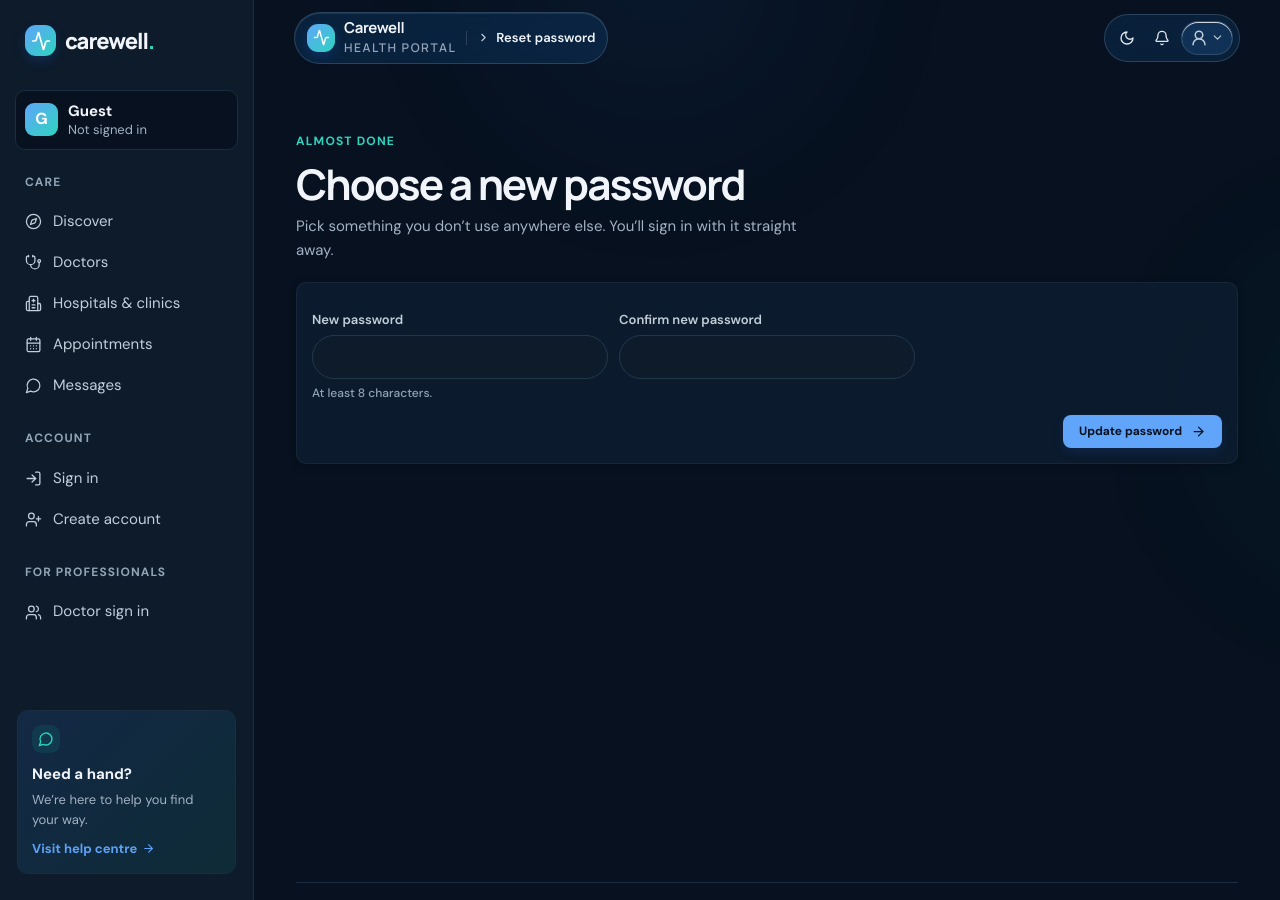
Scenario: reset password screen › explains an expired link and offers a new one
The image size is (1280, 900).
Type "a-brand-new-one" into the password field labelled "New password At least 8 characters." at (460, 357), box [312,335,608,379]
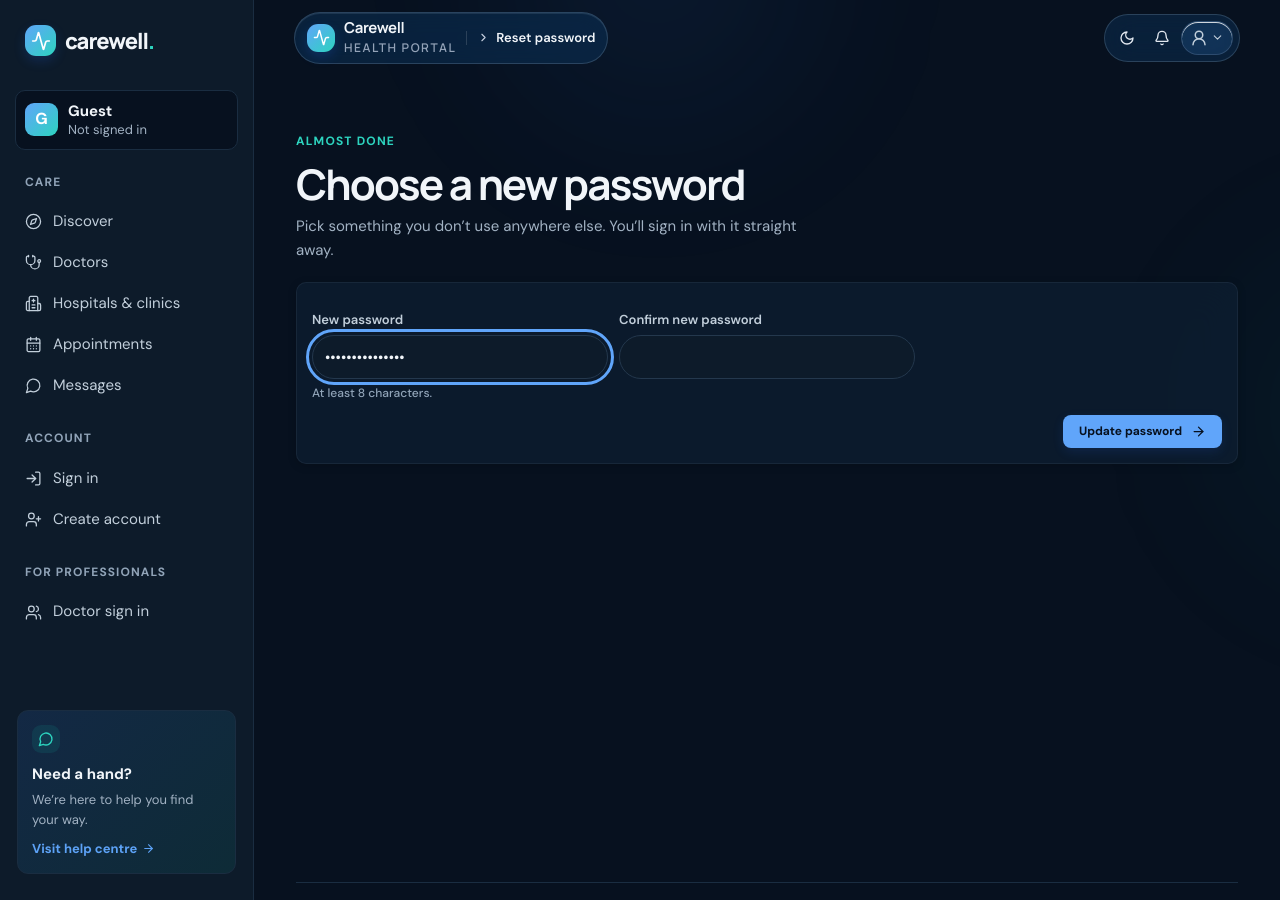
Type "a-brand-new-one" into the password field labelled "Confirm new password" at (767, 357), box [619,335,915,379]
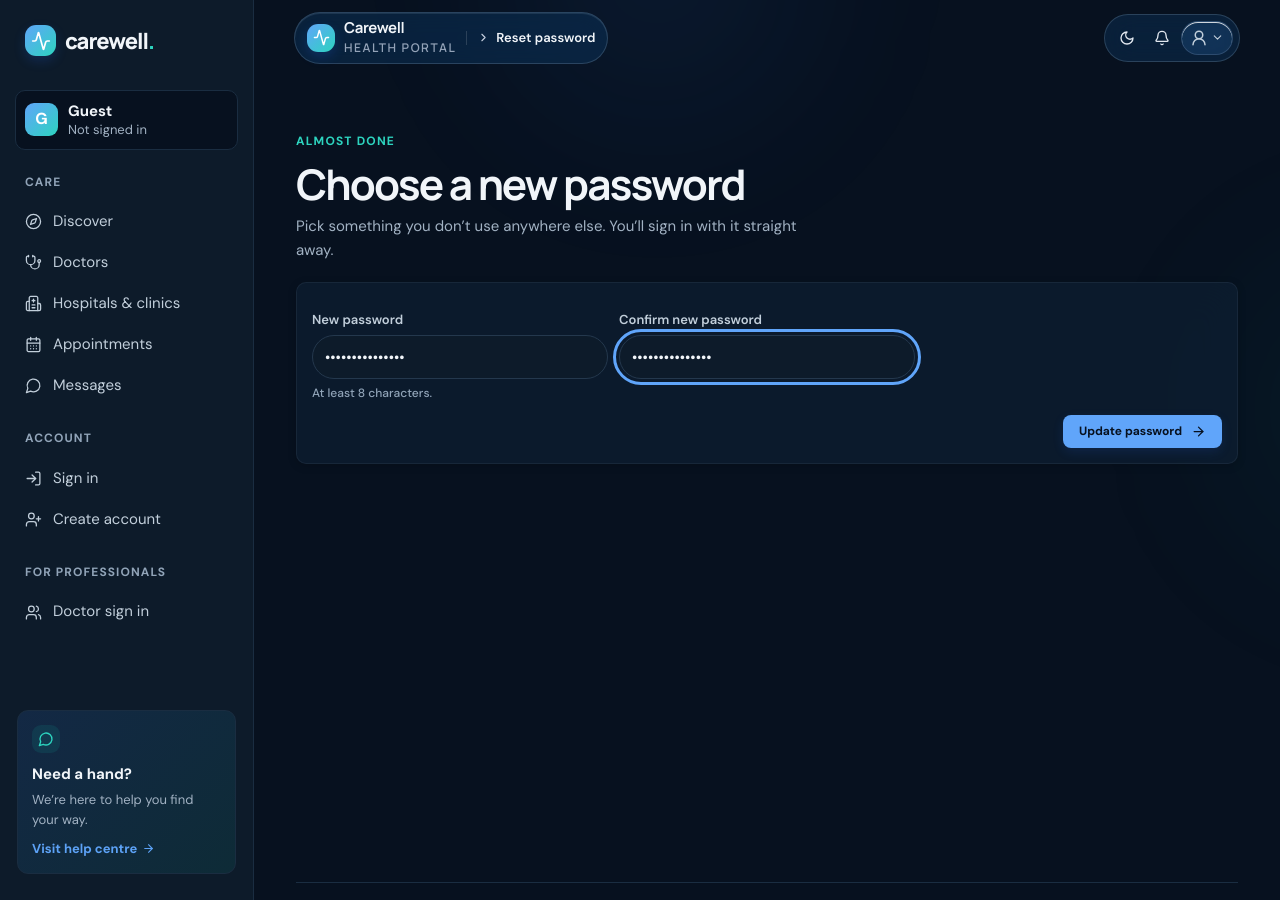
Click the button "Update password" at (1142, 431), box [1063,415,1222,448]
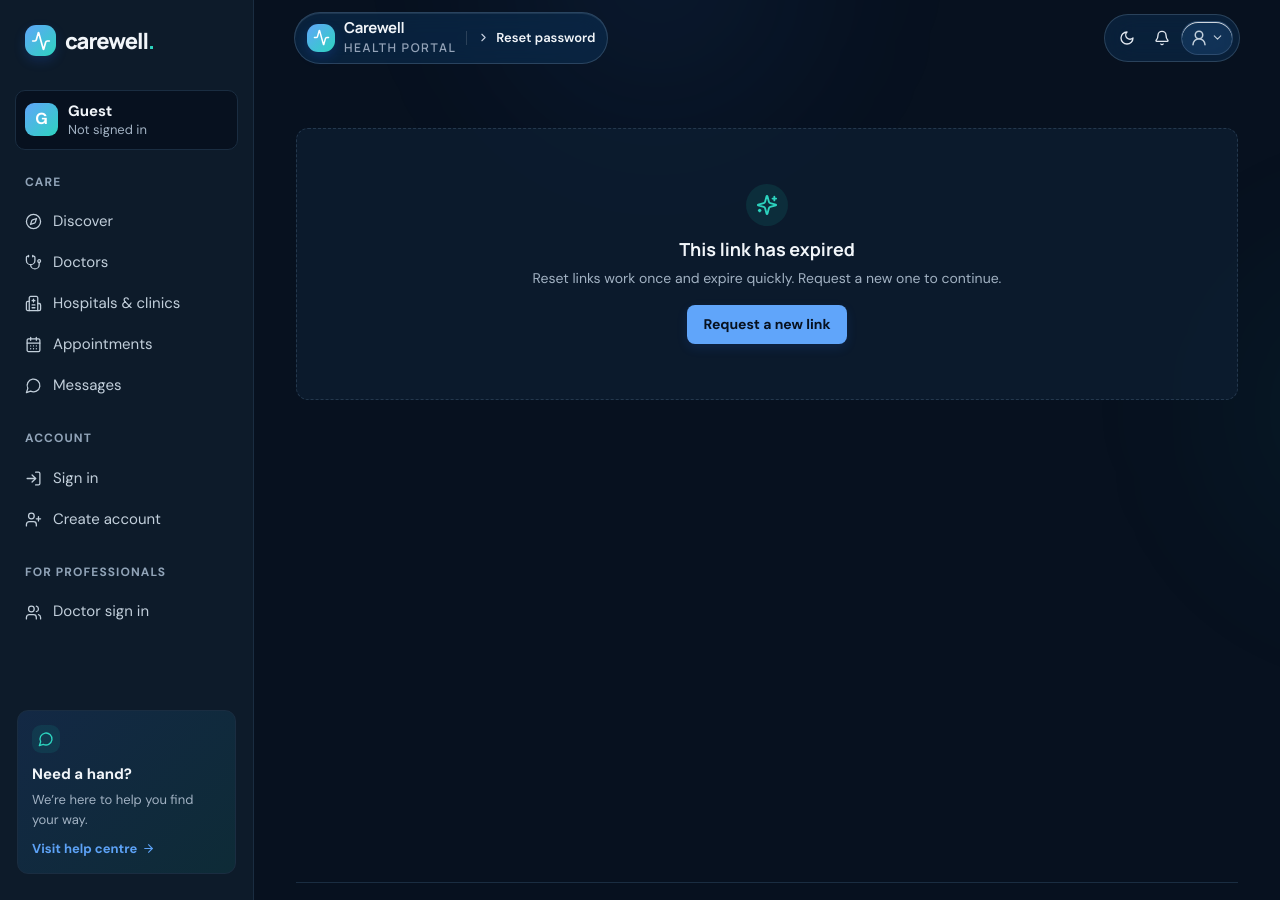
Expected: the heading "This link has expired" is shown, [679,236,855,263]
